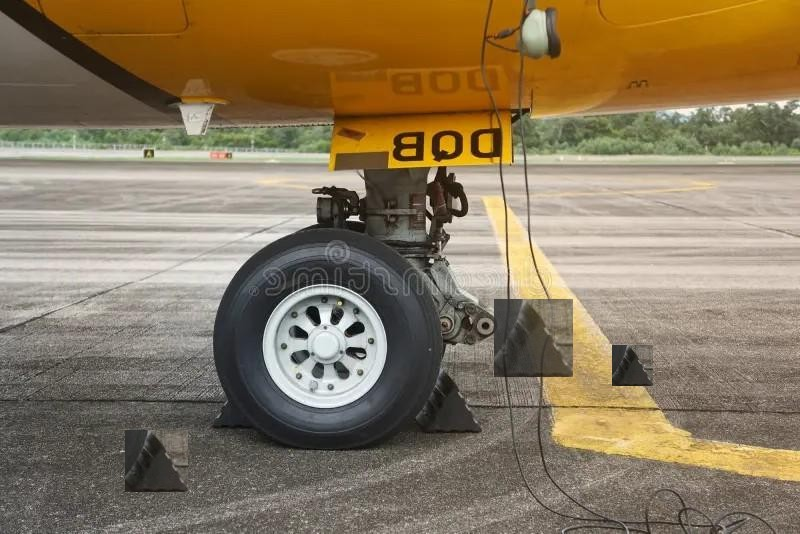chock: (494, 299, 573, 377), (416, 368, 482, 433), (125, 430, 188, 492), (612, 345, 653, 386)
wheel: (216, 224, 449, 448)
